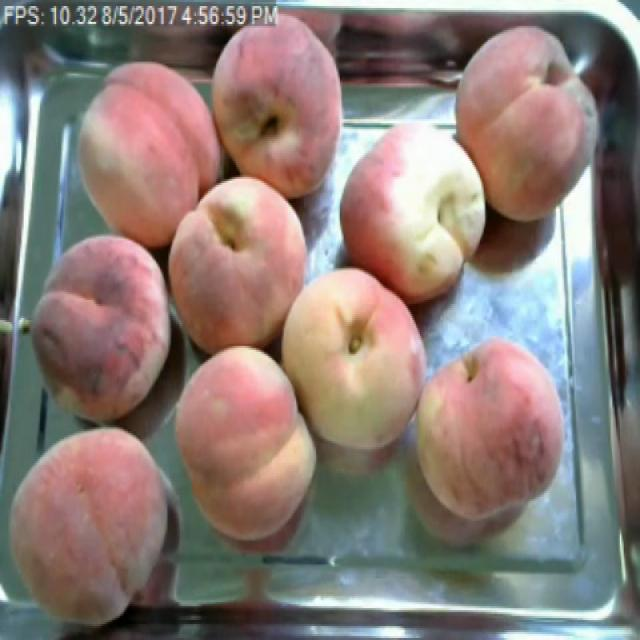Fruit: (0, 413, 188, 640), (436, 10, 611, 236), (265, 253, 440, 461), (16, 221, 177, 443), (330, 115, 507, 316), (403, 328, 576, 533), (164, 336, 328, 550), (71, 52, 236, 254), (205, 8, 358, 213), (164, 167, 321, 366)
